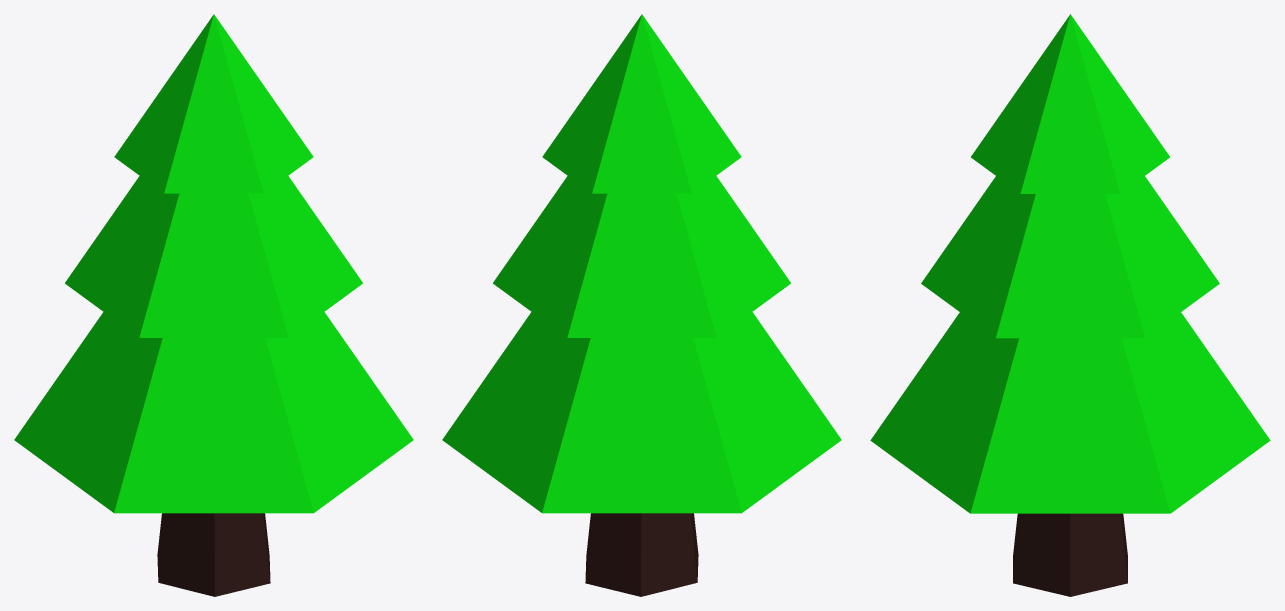
The model's file is Fir_Tree.fbx.
The picture shows the model from 3 angles, left to right: view 1: azimuth 30°, elevation 25°; view 2: azimuth 150°, elevation 25°; view 3: azimuth 270°, elevation 25°; orthographic projection.
Parts seen in each view (by area): view 1: Crown, Trunk; view 2: Crown, Trunk; view 3: Crown, Trunk.
Boxes of the visible parts, x1,y1,x2,y2 form: Crown: (14, 14, 413, 513); Trunk: (157, 513, 270, 596); Crown: (442, 14, 841, 513); Trunk: (585, 513, 698, 596); Crown: (870, 14, 1270, 513); Trunk: (1013, 513, 1127, 596).
Bounding box in the file's own units: 1.73 × 3.06 × 2.
